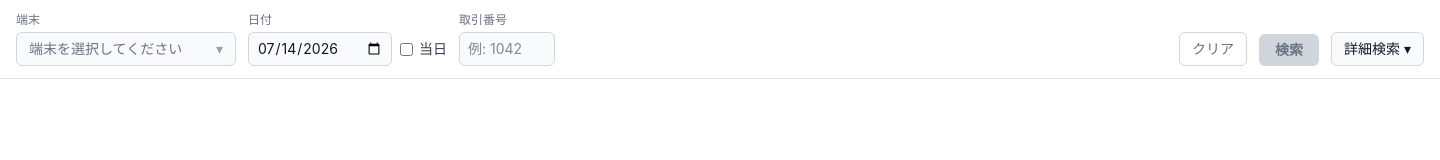
Test: SearchBar › 当日チェックを入れると、日付入力欄が無効化される
The width and height of the screenshot is (1440, 160).
Click the checkbox labelled "当日" at (406, 49), box [400,42,413,56]
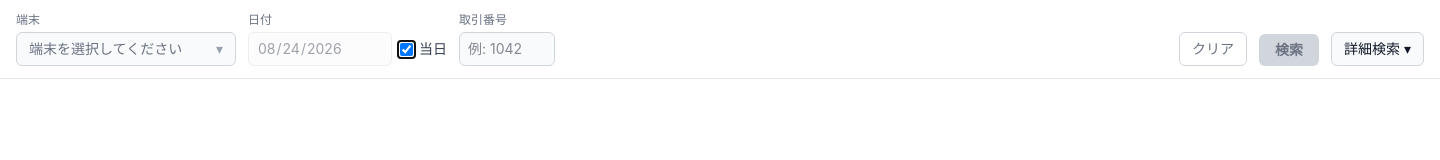
Expected: the checkbox labelled "当日" is checked, [400,42,413,56]
Expected: the date field labelled "日付" is disabled, [248,32,392,66]
